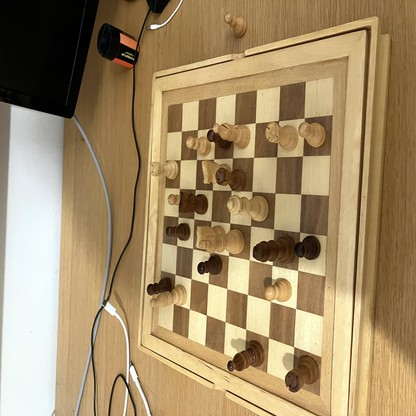bishop_black: (228, 342, 264, 372)
bishop_white: (215, 124, 250, 149), (151, 285, 187, 307)
king_black: (254, 236, 294, 264)
king_white: (200, 229, 245, 257)
knight_black: (180, 193, 208, 214)
knight_white: (201, 160, 231, 185)
pawn_black: (297, 235, 321, 260), (197, 255, 224, 274), (166, 222, 191, 240), (208, 130, 232, 148), (148, 277, 171, 293)
pawn_white: (265, 278, 292, 302), (300, 123, 325, 147), (226, 13, 246, 37), (187, 137, 210, 155)
queen_white: (227, 196, 268, 221)
rock_black: (284, 356, 319, 392), (217, 167, 247, 191)
rock_white: (266, 122, 298, 150), (150, 162, 179, 181)
